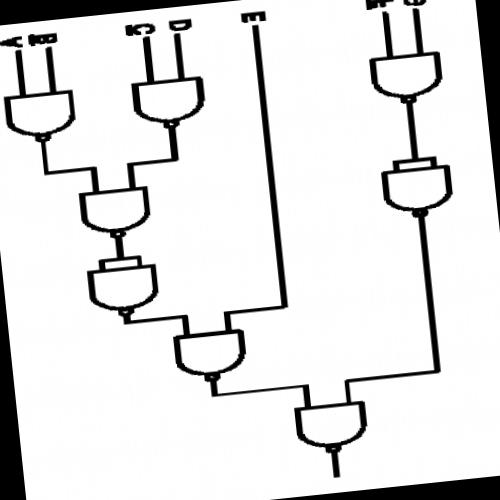nand: (357, 46, 452, 114), (121, 69, 213, 138), (66, 178, 160, 245), (286, 392, 374, 461), (0, 81, 87, 150), (372, 159, 459, 225), (163, 324, 252, 388), (76, 259, 164, 323)
